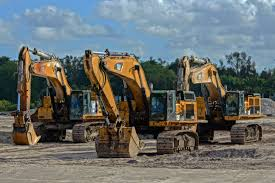excavator: (84, 48, 186, 166), (175, 56, 266, 157), (14, 45, 97, 151)
